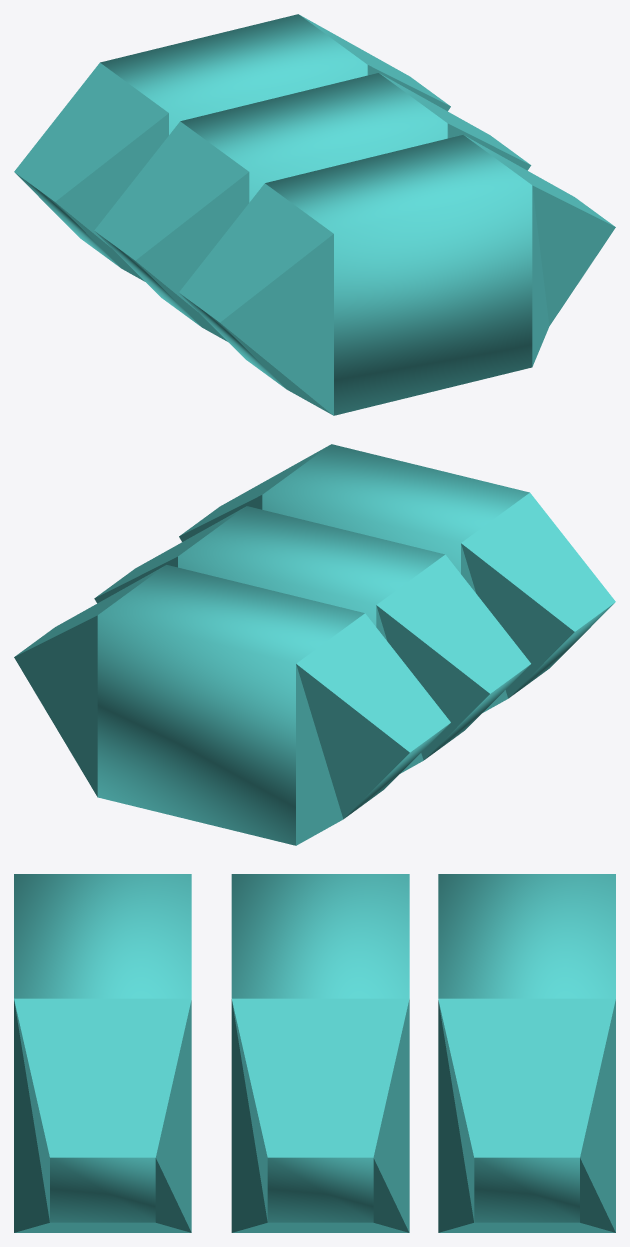
The model's file is generator_3db.gltf.
3 renders of one model, top to bottom at view 1: azimuth 30°, elevation 25°; view 2: azimuth 150°, elevation 25°; view 3: azimuth 270°, elevation 25°, orthographic. The views are drawn at different scales.
Parts seen in each view (by area): view 1: generator.3db; view 2: generator.3db; view 3: generator.3db.
Part boxes in pixels (x1,y1,x2,y2): generator.3db: (14, 14, 615, 415); generator.3db: (14, 444, 615, 845); generator.3db: (14, 874, 615, 1232).
Bounding box in the file's own units: 6.8 × 2.99 × 6.95.
